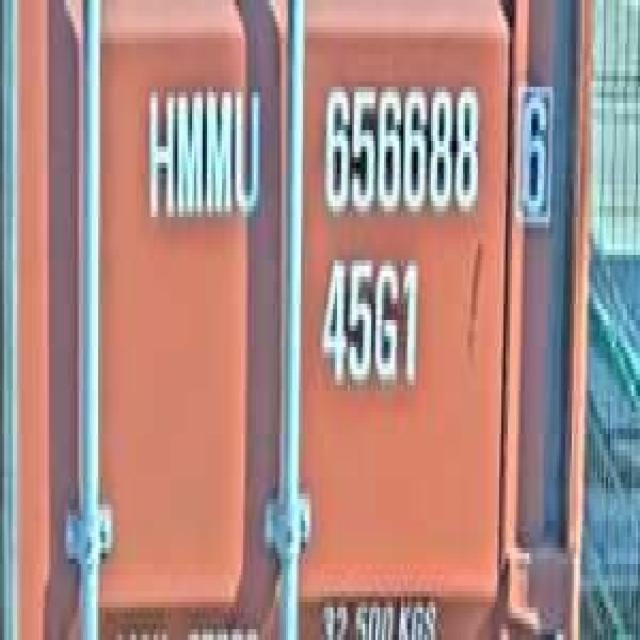dv: (512, 71, 557, 233)
owner: (141, 70, 264, 238)
serial: (314, 70, 484, 228)
size: (314, 244, 422, 407)
